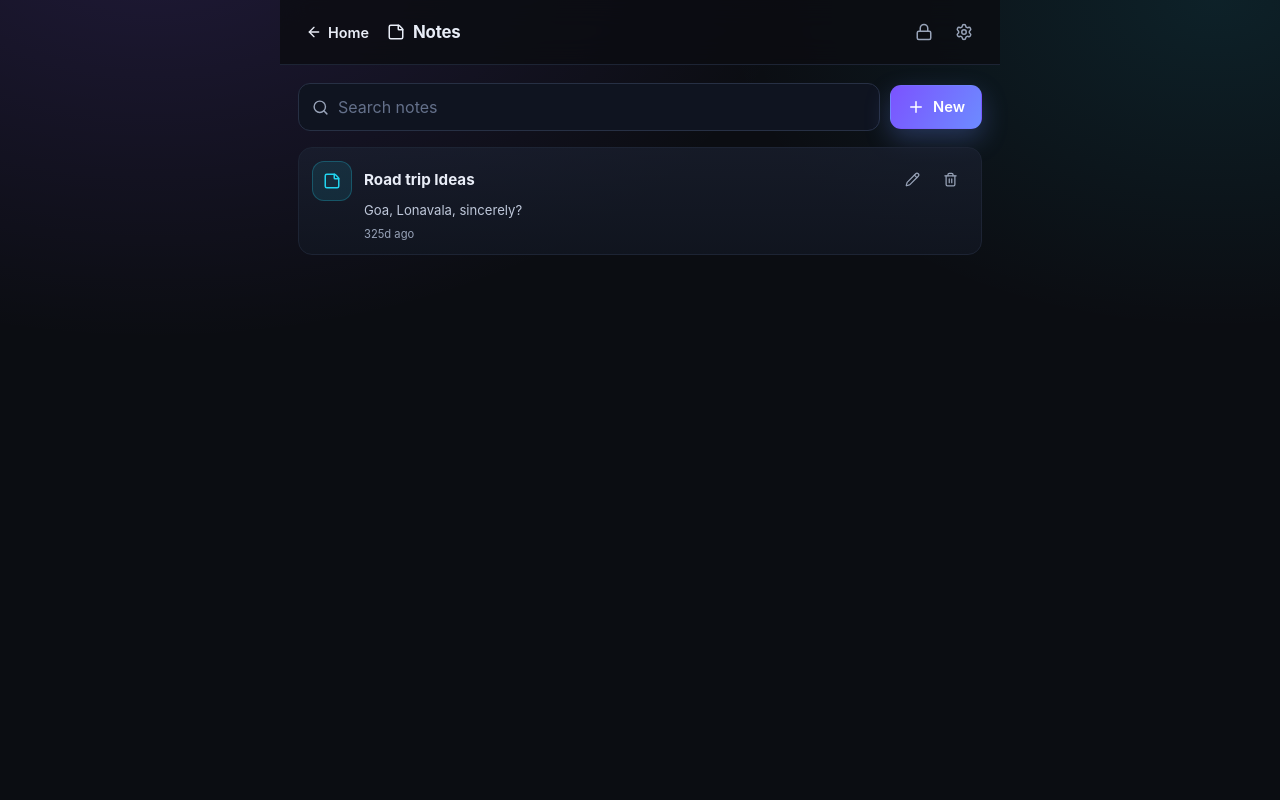
Test: NotesScreen › opens the note editor for a new note
This screenshot has width=1280, height=800.
Click the button "New". click: point(936, 107)
box: [890,85,982,129]
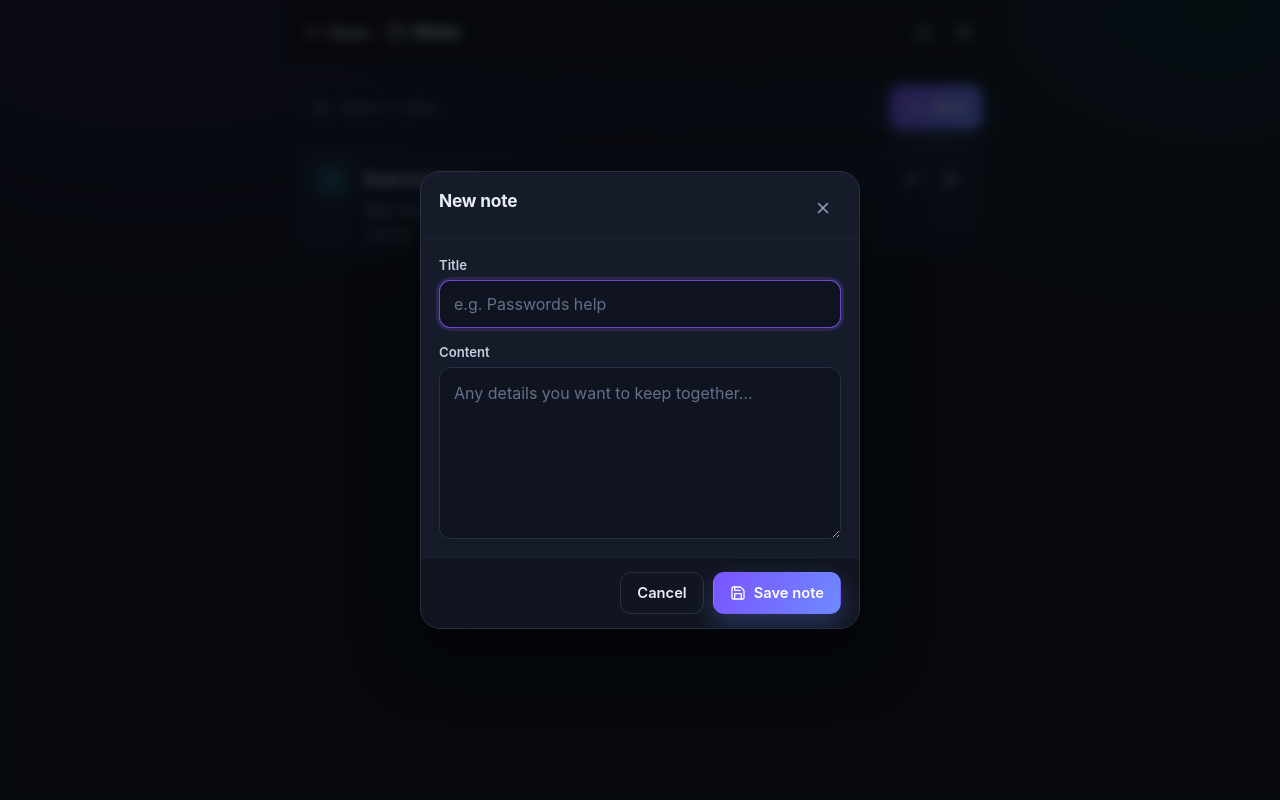
Now the heading "New note" is shown, box [439,190,517,211]
